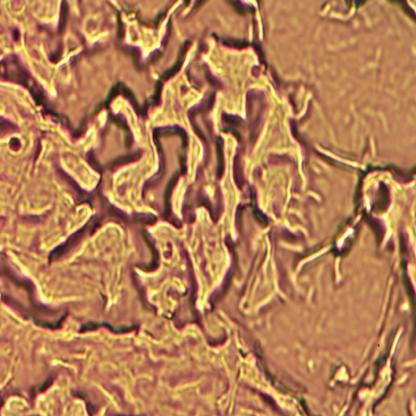Stage I: (0, 1, 258, 370)
